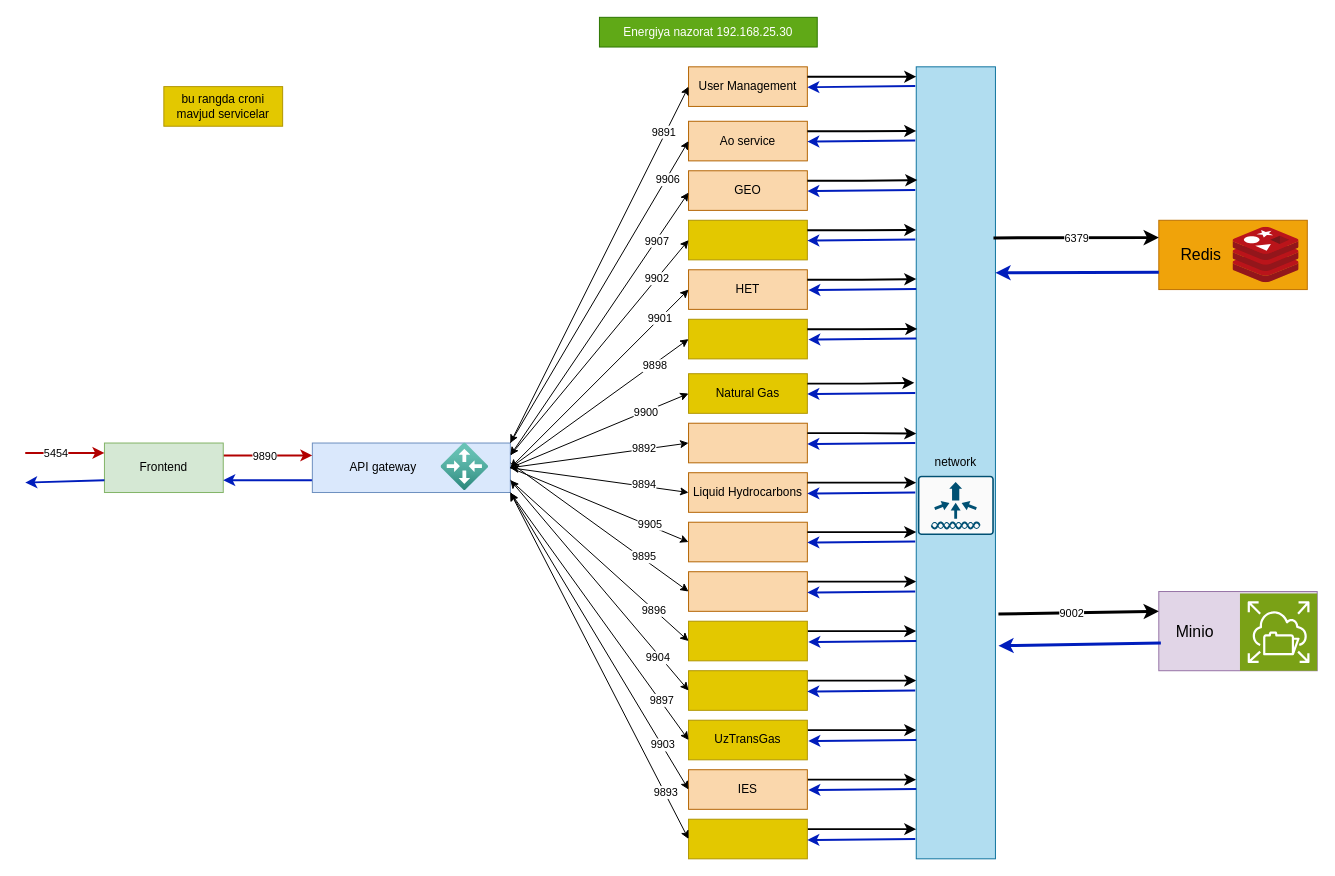
The diagram is 1335 pixels wide and 876 high, and some of its shapes have lost their labels. The shapes that lost their labels are listed below. From the top down, each one's centre as x and y in pixels, then its label:
At pixel 747 239: "GES".
At pixel 747 338: "Liquefied Gas".
At pixel 747 442: "Uzbek Coal".
At pixel 747 541: "Translation".
At pixel 747 591: "MET".
At pixel 747 640: "UzbekNefteGaz Oil well".
At pixel 747 690: "UzGasTrade".
At pixel 747 838: "UzbekNefteGaz".
